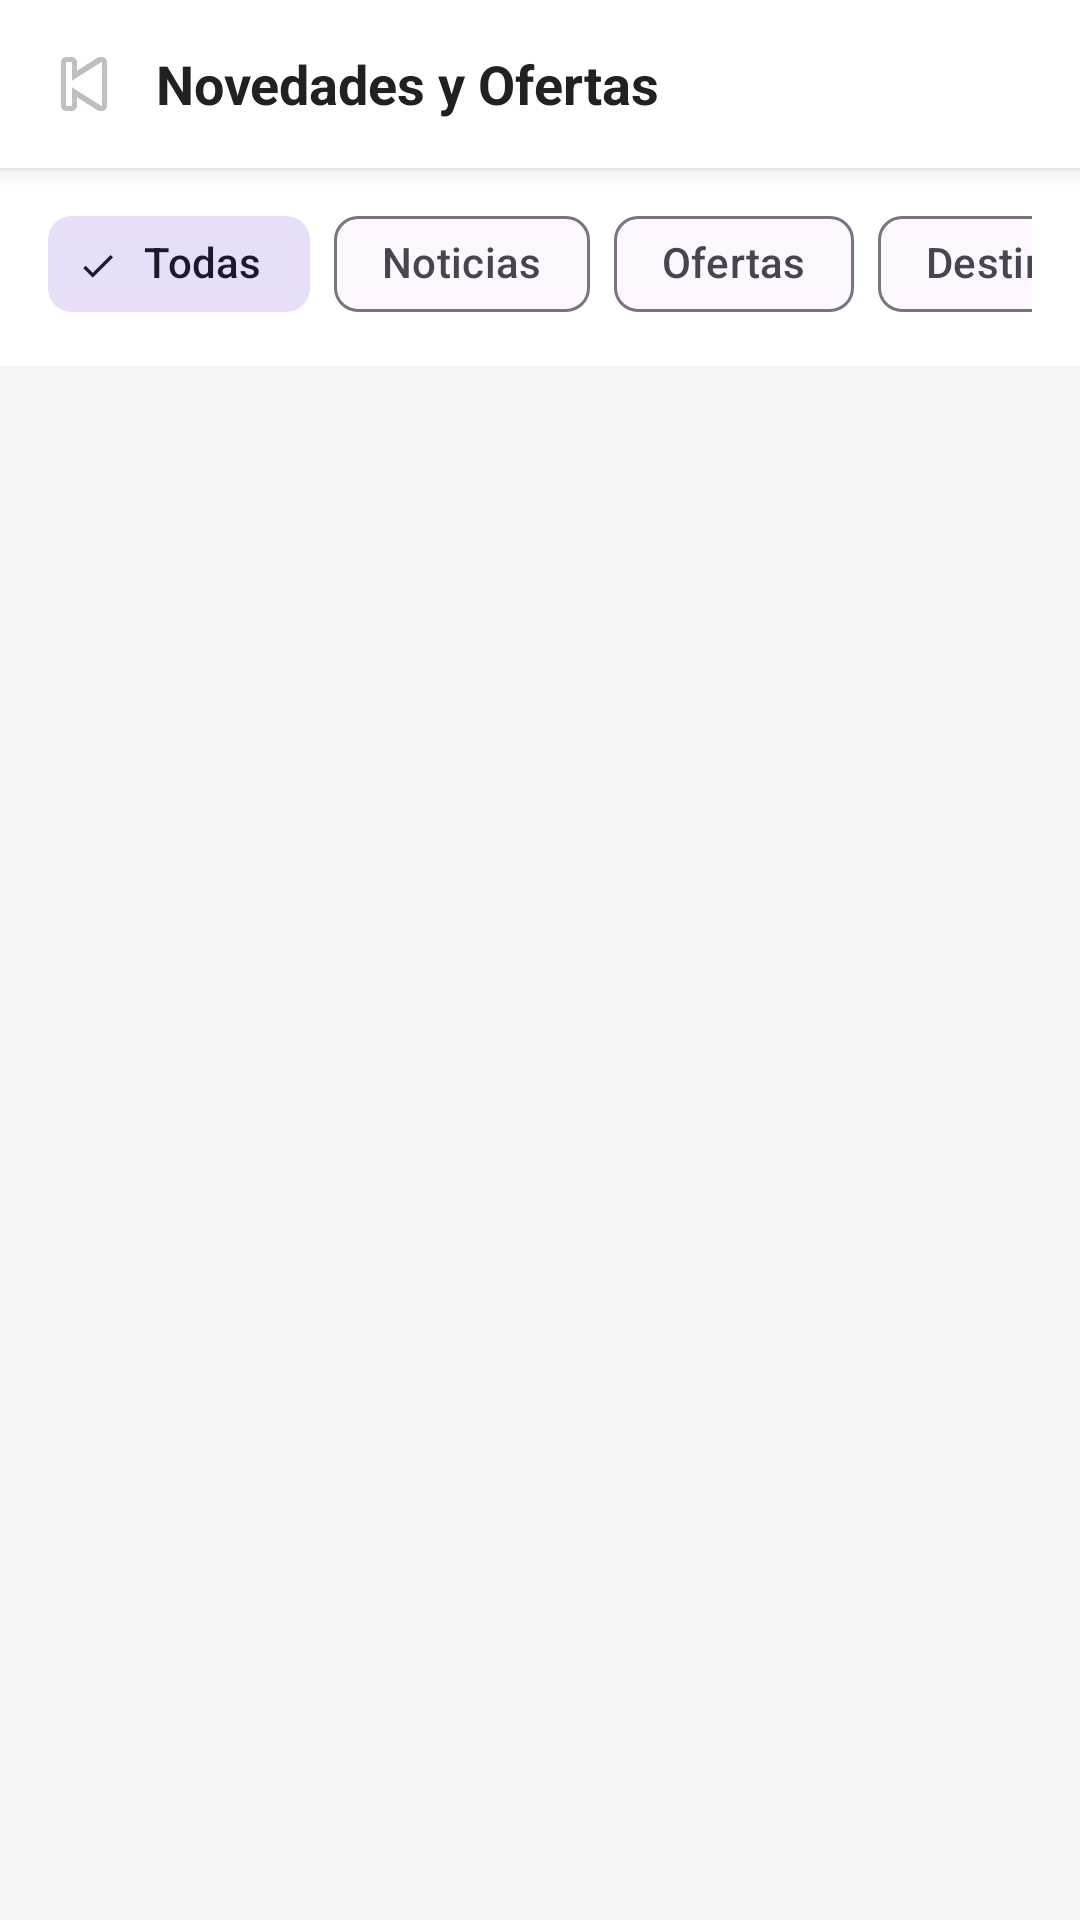

Icons on this 1080 x 1920 Android screen, each with its box as (x1, y1, x2, y2):
Volver: (61, 57, 107, 111)
